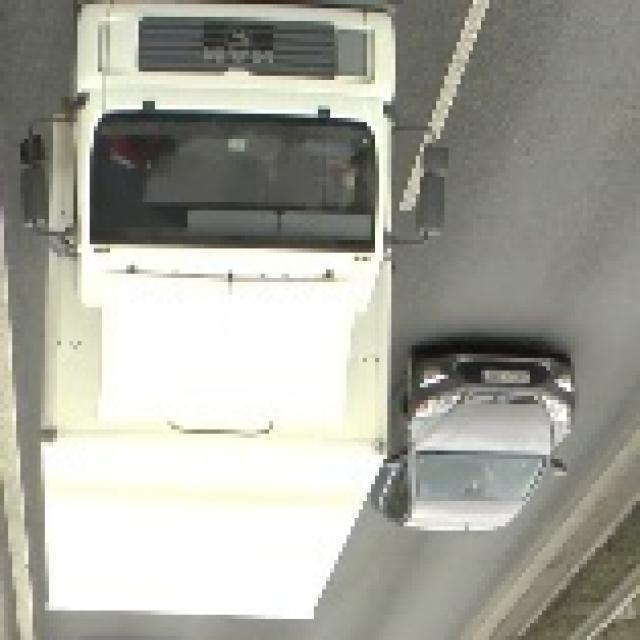truck: (49, 5, 452, 628)
